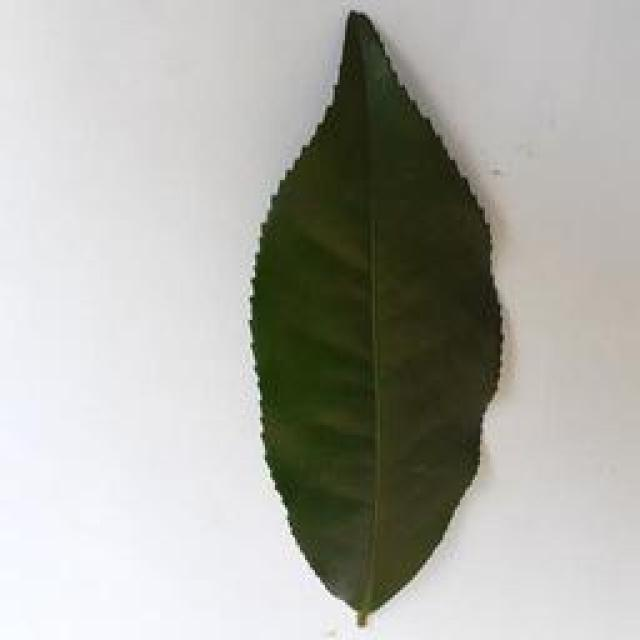Healthy: (227, 8, 514, 618)
